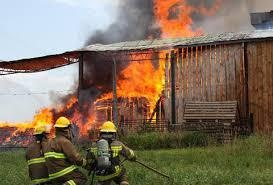fire: (115, 51, 171, 122), (151, 0, 221, 38)
